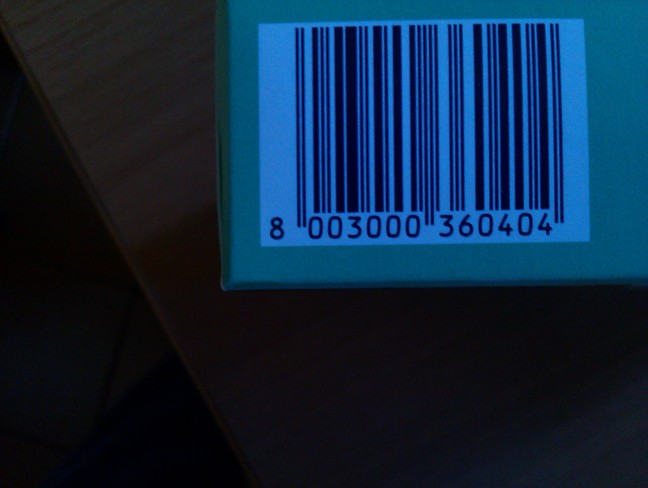barcode: (241, 19, 590, 241)
